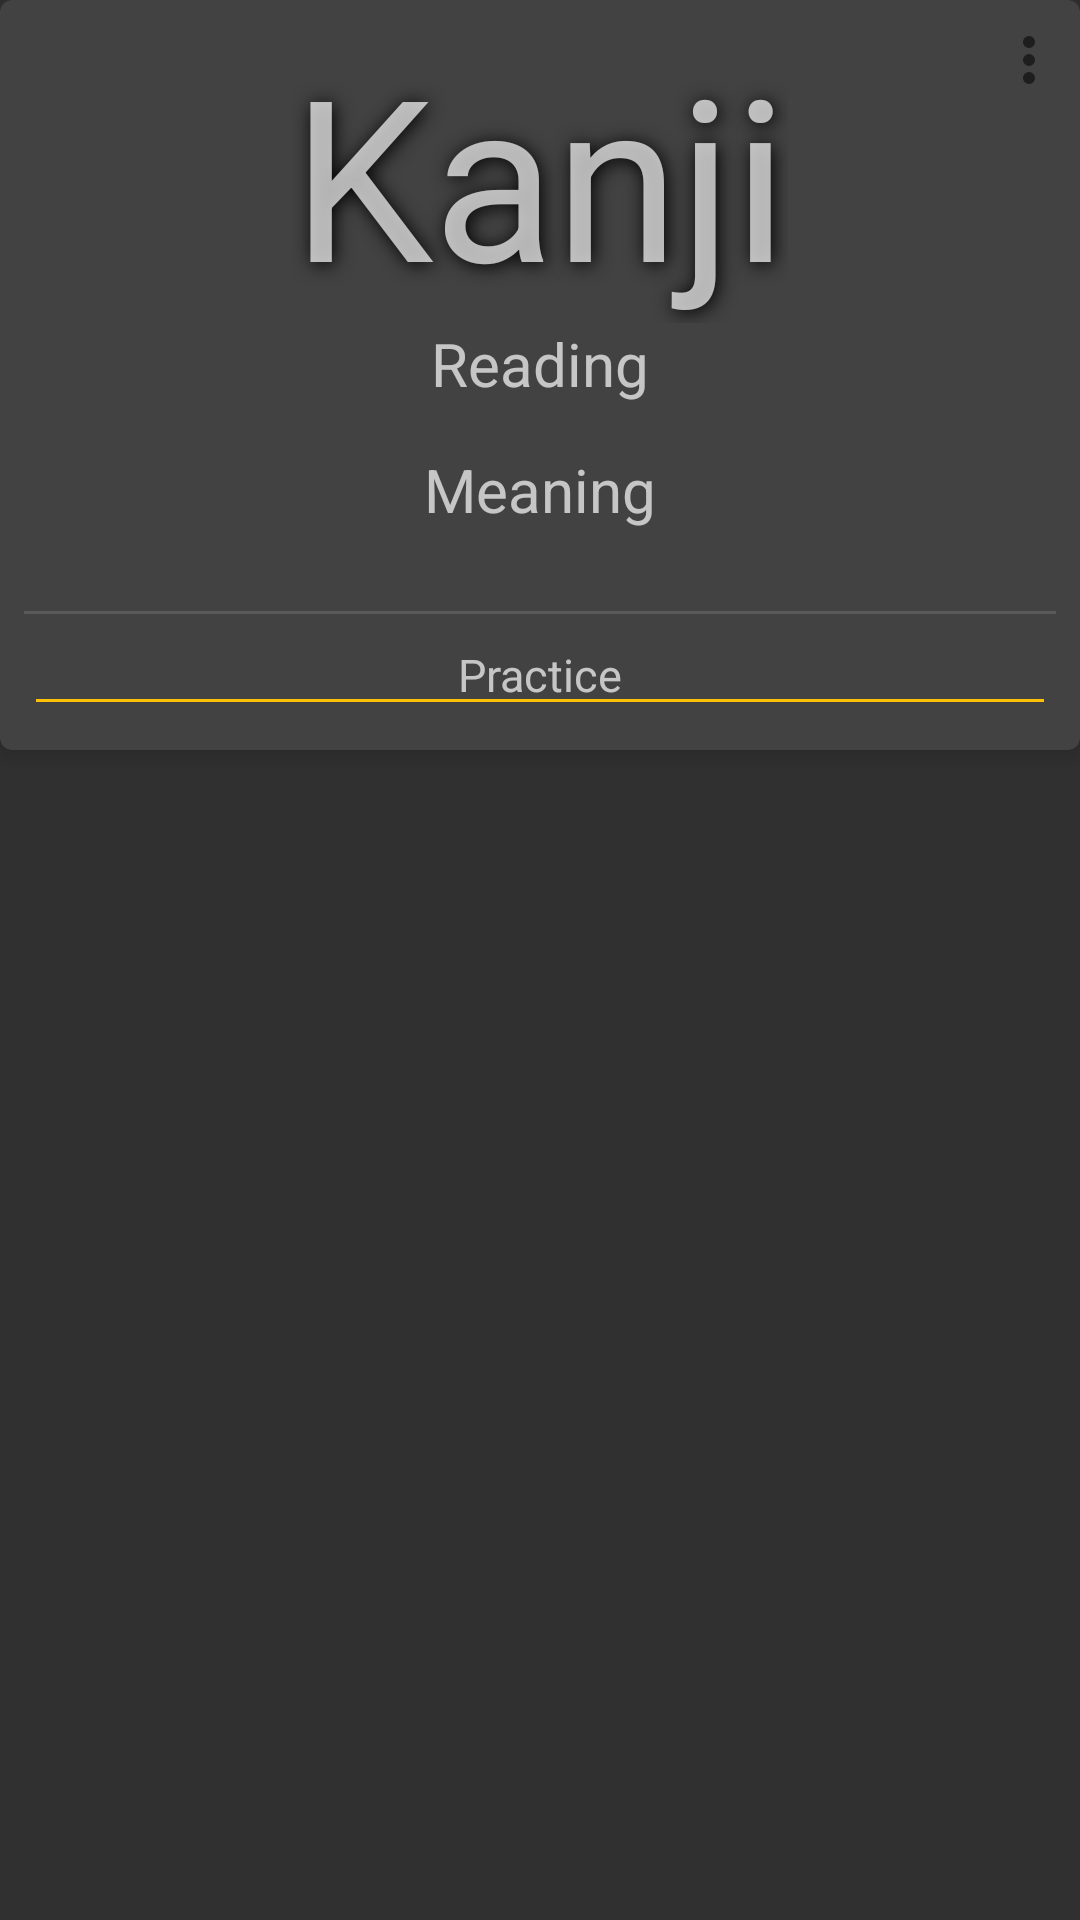

Icons on this 1080px x 1920px Android screen, each with its box as (x1, y1, x2, y2):
overflow: (1023, 36, 1035, 84)
